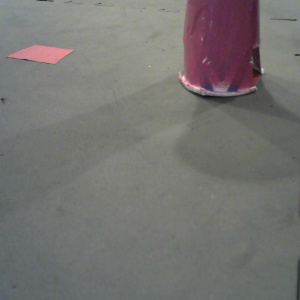right: (178, 1, 267, 102)
